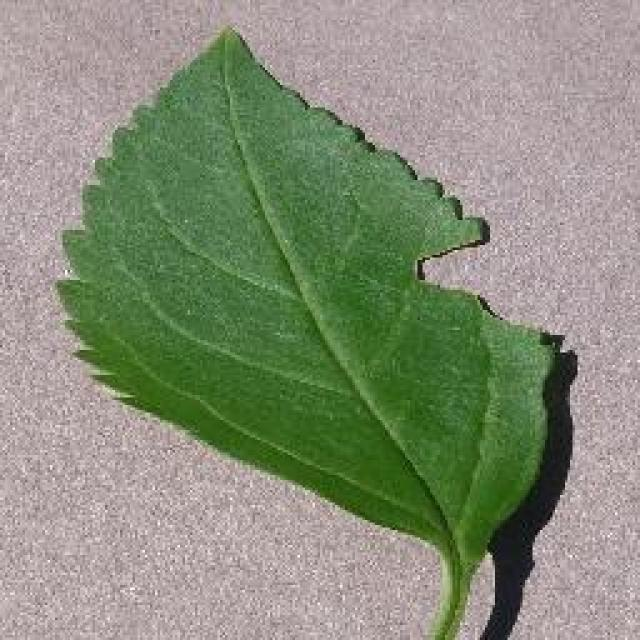Cherry___healthy: (42, 10, 572, 640)
